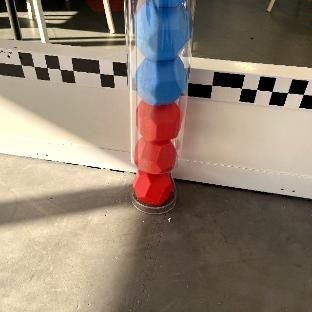Loader: (123, 0, 198, 214)
V5_BLUE: (135, 0, 191, 60), (135, 55, 186, 103)
V5_RED: (136, 98, 183, 140), (135, 137, 177, 174), (133, 171, 171, 205)
